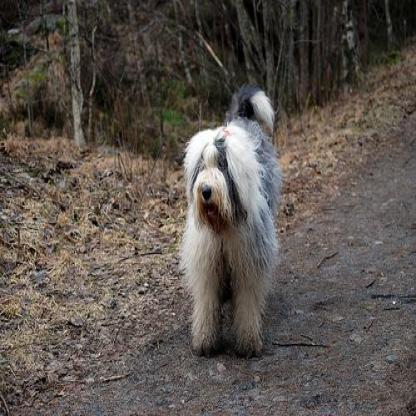Old_English_sheepdog: (179, 90, 275, 360)
